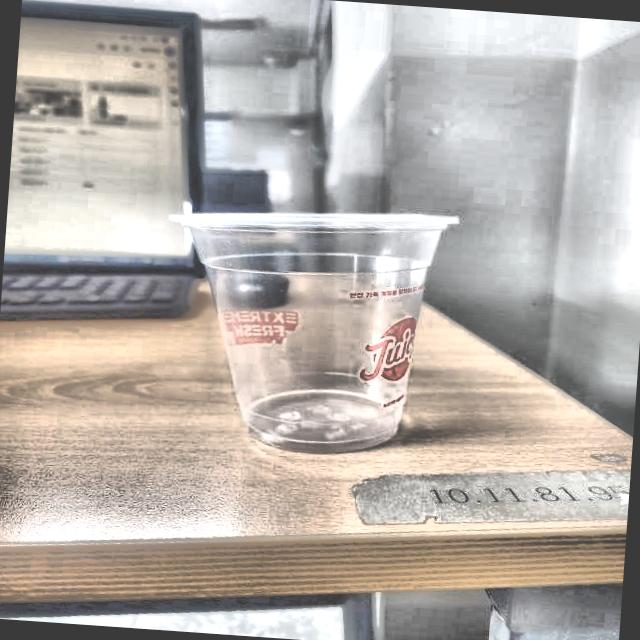plastic cup: (156, 194, 460, 460)
